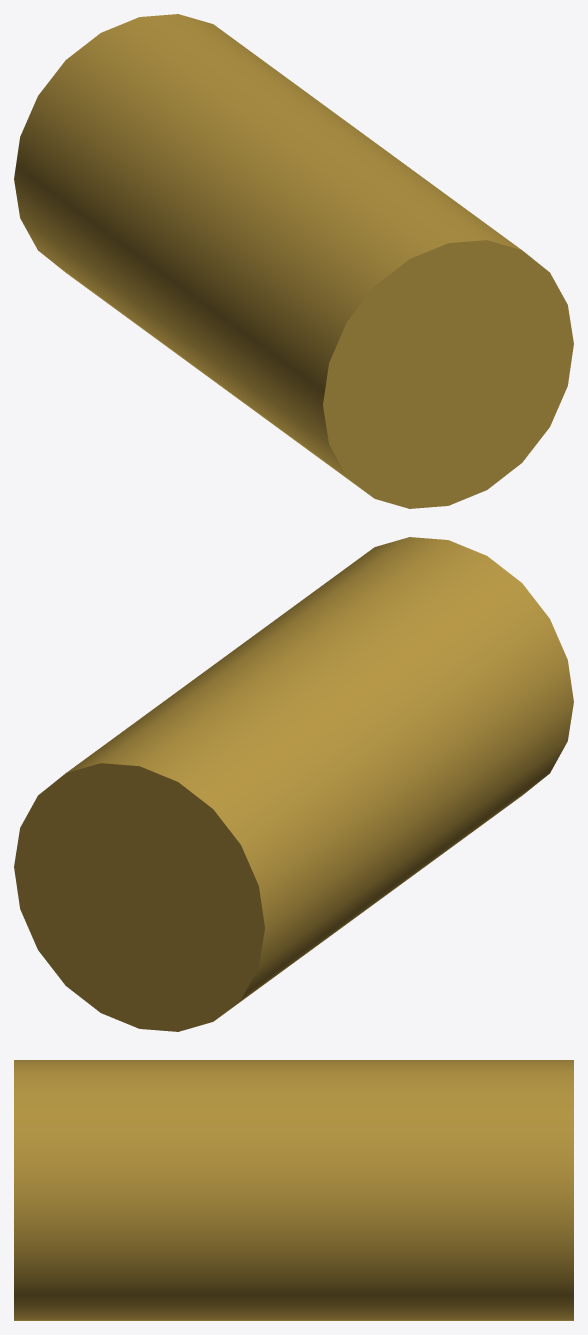
The model's file is EnemyBullet.fbx.
3 renders of one model, top to bottom at view 1: azimuth 30°, elevation 25°; view 2: azimuth 150°, elevation 25°; view 3: azimuth 270°, elevation 25°, orthographic. The views are drawn at different scales.
Visible parts, largest first — view 1: pCylinder1; view 2: pCylinder1; view 3: pCylinder1.
Part boxes in pixels (left/top/right/bottom): pCylinder1: left=14, top=14, right=573, bottom=508; pCylinder1: left=14, top=537, right=573, bottom=1031; pCylinder1: left=14, top=1060, right=573, bottom=1320.
Bounding box in the file's own units: 0.3572 × 0.3572 × 0.7612.
